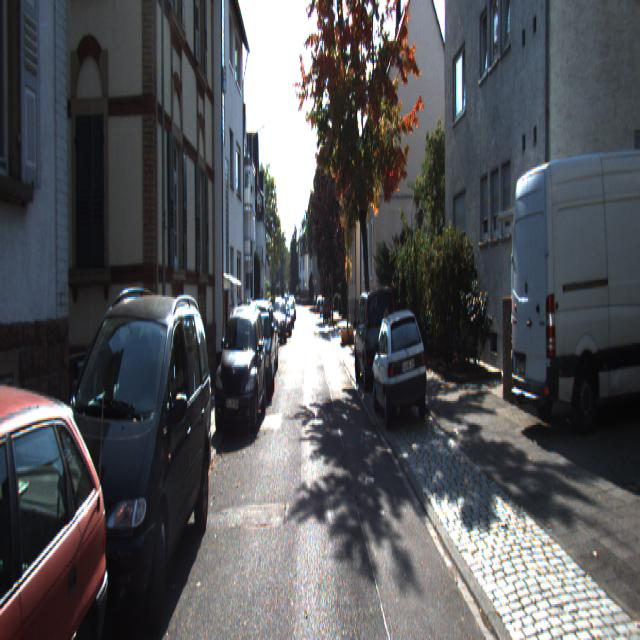Car: (28, 278, 218, 638), (506, 137, 640, 443), (0, 366, 125, 638), (213, 296, 267, 440), (370, 307, 432, 432), (352, 284, 398, 392), (243, 298, 276, 402)
